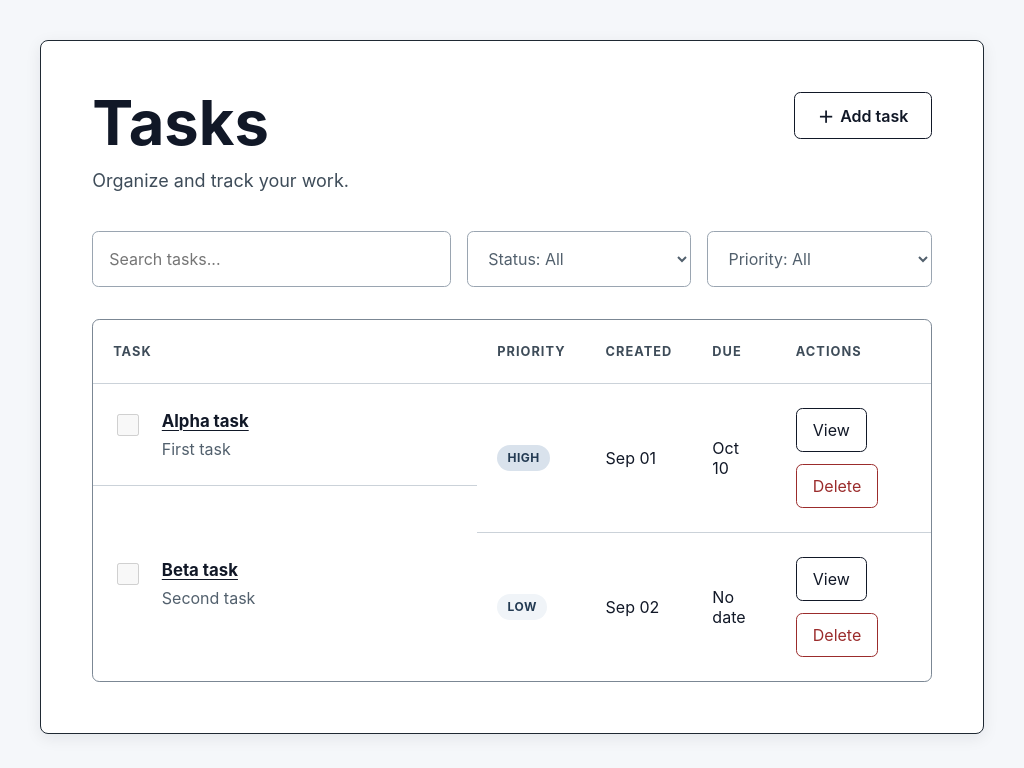
Test case: TasksListPage deletion › cancels without deleting the task
The width and height of the screenshot is (1024, 768).
Click the button with aria-label "Delete Alpha task".
click(837, 486)  # box top-left (796, 464), bottom-right (878, 508)
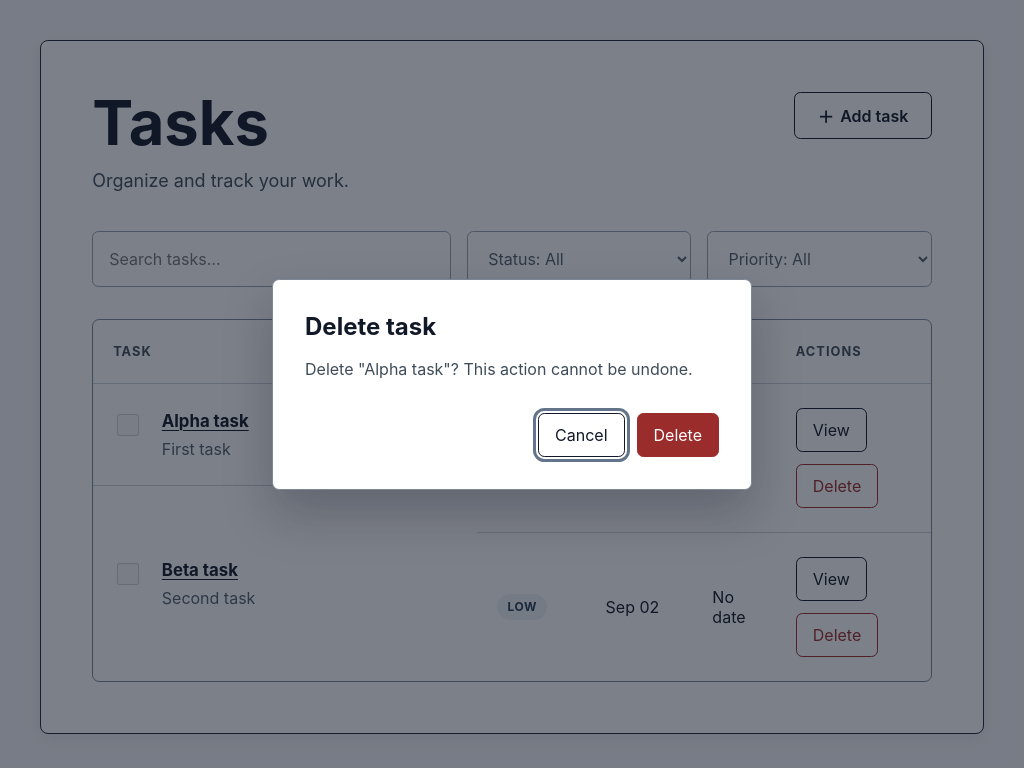
Click the button "Cancel".
click(581, 434)  # box top-left (538, 412), bottom-right (624, 456)
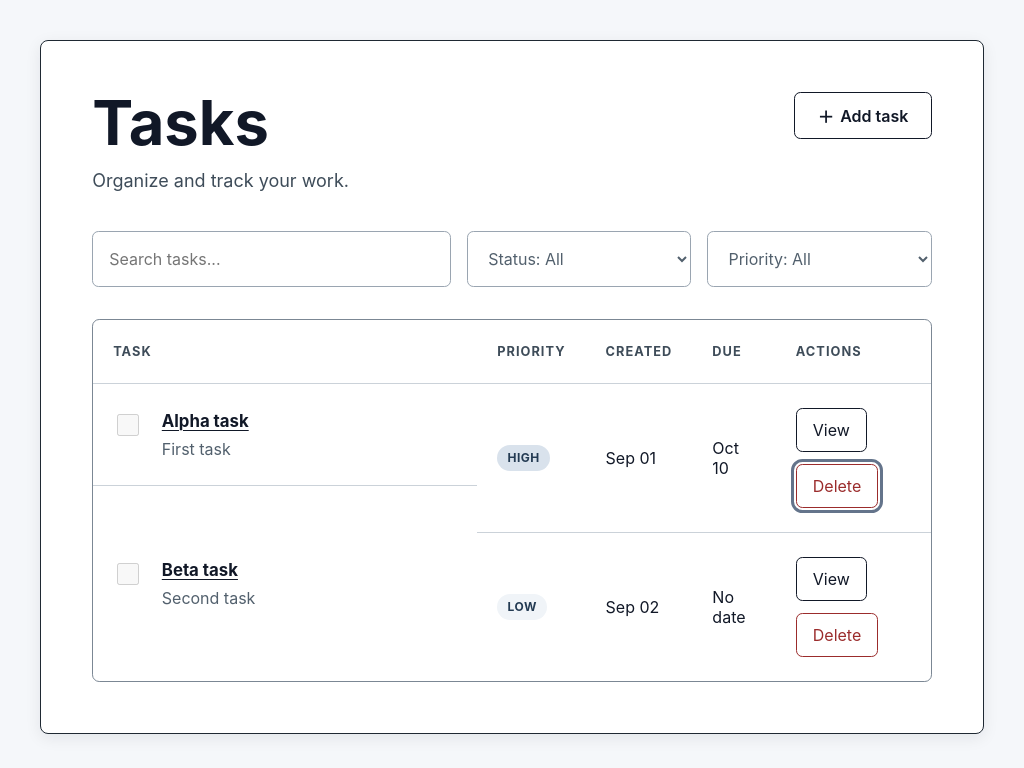
Expected: the link "Alpha task" is shown, top-left (162, 411), bottom-right (249, 431)
Expected: the dialog is gone
